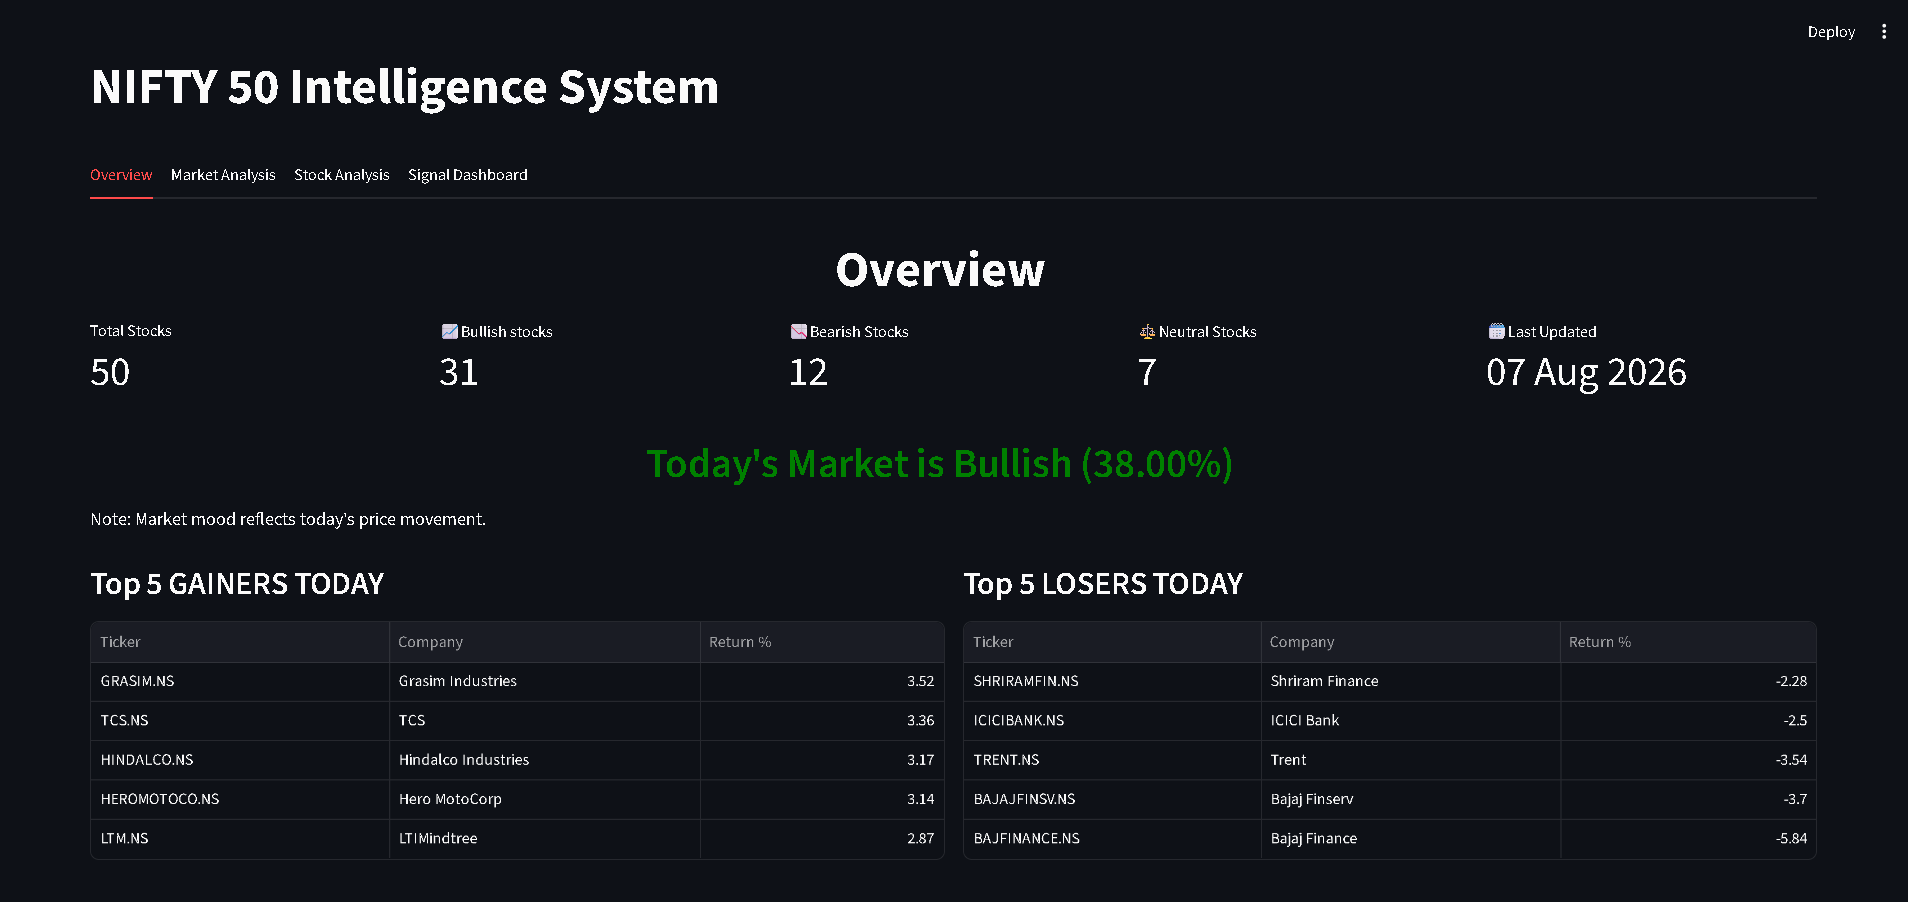

Layout of this report page (visuals, bound fields, positions):
{"tool":"powerbi","page":{"name":"Executive Summary","canvas":[1280,720],"ordinal":0},"visuals":[{"type":"textbox","box":[331.3,0,668.7,72.4],"z":0},{"type":"textbox","box":[462.6,63.8,355.8,56.4],"z":1000},{"type":"cardVisual","fields":{"Data":["Count(StockData.Ticker)"]},"box":[54,128.8,228.2,127.6],"z":2000},{"type":"cardVisual","fields":{"Data":["CurrentSignal.Bullish_count"]},"box":[293.3,128.8,228.2,127.6],"z":3000},{"type":"cardVisual","fields":{"Data":["CurrentSignal.Neutral Stocks"]},"box":[773,128.8,227,127.6],"z":4000},{"type":"cardVisual","fields":{"Data":["CurrentSignal.Bearish Stocks"]},"box":[535,128.8,228.2,127.6],"z":5000},{"type":"cardVisual","fields":{"Data":["Max(StockData.Date)"]},"box":[1011,128.8,228.2,127.6],"z":6000},{"type":"donutChart","title":"Market Signal Distribution","fields":{"Category":["CurrentSignal.final_signal"],"Y":["CountNonNull(CurrentSignal.Ticker)"]},"box":[54.9,273.1,577.7,251.1],"z":7000},{"type":"clusteredBarChart","title":"Top 5 Sectors By Daily Returns","fields":{"Category":["StockData.Sector"],"Y":["Avg(StockData.daily_return)"]},"box":[673.8,273.1,572.2,251.1],"z":8000},{"type":"tableEx","title":"TOP 5 GAINERS","fields":{"Values":["StockData.Today's Return %","StockData.Company","StockData.Ticker"]},"box":[53.5,544.8,579.1,175.6],"z":9000},{"type":"tableEx","title":"TOP 5 LOSERS","fields":{"Values":["StockData.Today's Return %","StockData.Company","StockData.Ticker"]},"box":[666.9,544.8,579.1,175.6],"z":10000}]}

Visuals, with their boxes on the page's 1280x720 design canvas (x1, y1, x2, y2). These are canvas units, not pixel positions in the 1908x902 screenshot, which may show the page scaled, cropped or inside an application window:
textbox: [331,0,1000,72]
textbox: [463,64,818,120]
cardVisual - Count(StockData.Ticker): [54,129,282,256]
cardVisual - CurrentSignal.Bullish_count: [293,129,522,256]
cardVisual - CurrentSignal.Neutral Stocks: [773,129,1000,256]
cardVisual - CurrentSignal.Bearish Stocks: [535,129,763,256]
cardVisual - Max(StockData.Date): [1011,129,1239,256]
"Market Signal Distribution" donutChart: [55,273,633,524]
"Top 5 Sectors By Daily Returns" clusteredBarChart: [674,273,1246,524]
"TOP 5 GAINERS" tableEx: [54,545,633,720]
"TOP 5 LOSERS" tableEx: [667,545,1246,720]
